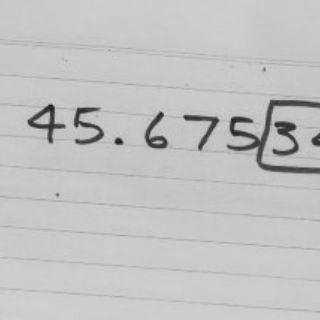.: (110, 134, 126, 147)
3: (270, 118, 301, 156)
4: (25, 101, 66, 145)
5: (71, 104, 106, 150), (226, 111, 260, 154)
6: (144, 109, 173, 153)
7: (181, 107, 221, 154)
